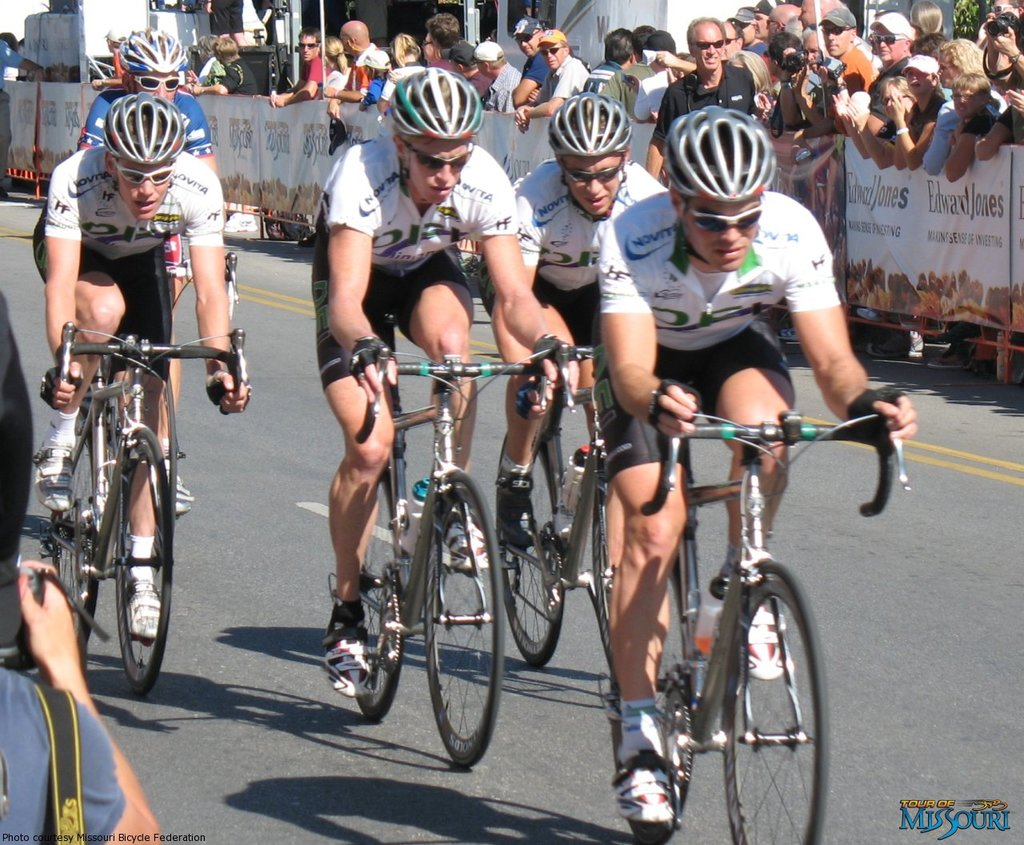Bike: (34, 336, 297, 722)
